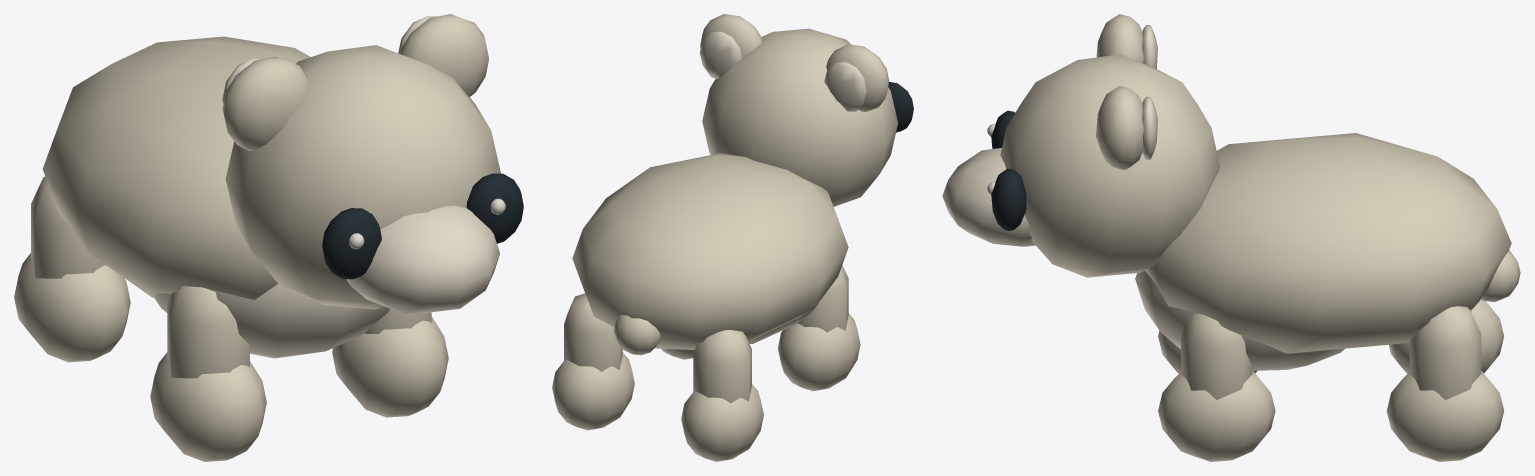
File: org_polarbear.glb
3 renders of one model, left to right at view 1: azimuth 30°, elevation 25°; view 2: azimuth 150°, elevation 25°; view 3: azimuth 270°, elevation 25°, orthographic. The views are drawn at different scales.
Parts seen in each view (by area): view 1: Head, Body, Leg_FR, Leg_BR, Leg_FL, Eye_R, Eye_L; view 2: Body, Head, Leg_BR, Leg_BL, Leg_FR, Tail, Eye_R; view 3: Body, Head, Leg_BL, Leg_FL, Leg_BR, Eye_L, Tail.
Boxes of the visible parts, <box> form: Head: <box>222,14,500,313</box>; Body: <box>42,36,389,358</box>; Leg_FR: <box>150,286,266,461</box>; Leg_BR: <box>14,177,130,362</box>; Leg_FL: <box>332,309,448,417</box>; Eye_R: <box>322,208,381,279</box>; Eye_L: <box>466,173,523,243</box>; Body: <box>572,153,848,349</box>; Head: <box>699,14,897,206</box>; Leg_BR: <box>681,330,763,461</box>; Leg_BL: <box>552,293,634,430</box>; Leg_FR: <box>778,265,860,391</box>; Tail: <box>614,314,660,355</box>; Eye_R: <box>888,82,913,132</box>; Body: <box>1135,133,1511,370</box>; Head: <box>942,14,1219,277</box>; Leg_BL: <box>1386,306,1504,461</box>; Leg_FL: <box>1158,313,1275,461</box>; Leg_BR: <box>1389,300,1504,373</box>; Eye_L: <box>987,168,1026,230</box>; Tail: <box>1480,250,1520,302</box>.
Size of the model in its own units: 0.8017 by 1.05 by 1.5.
